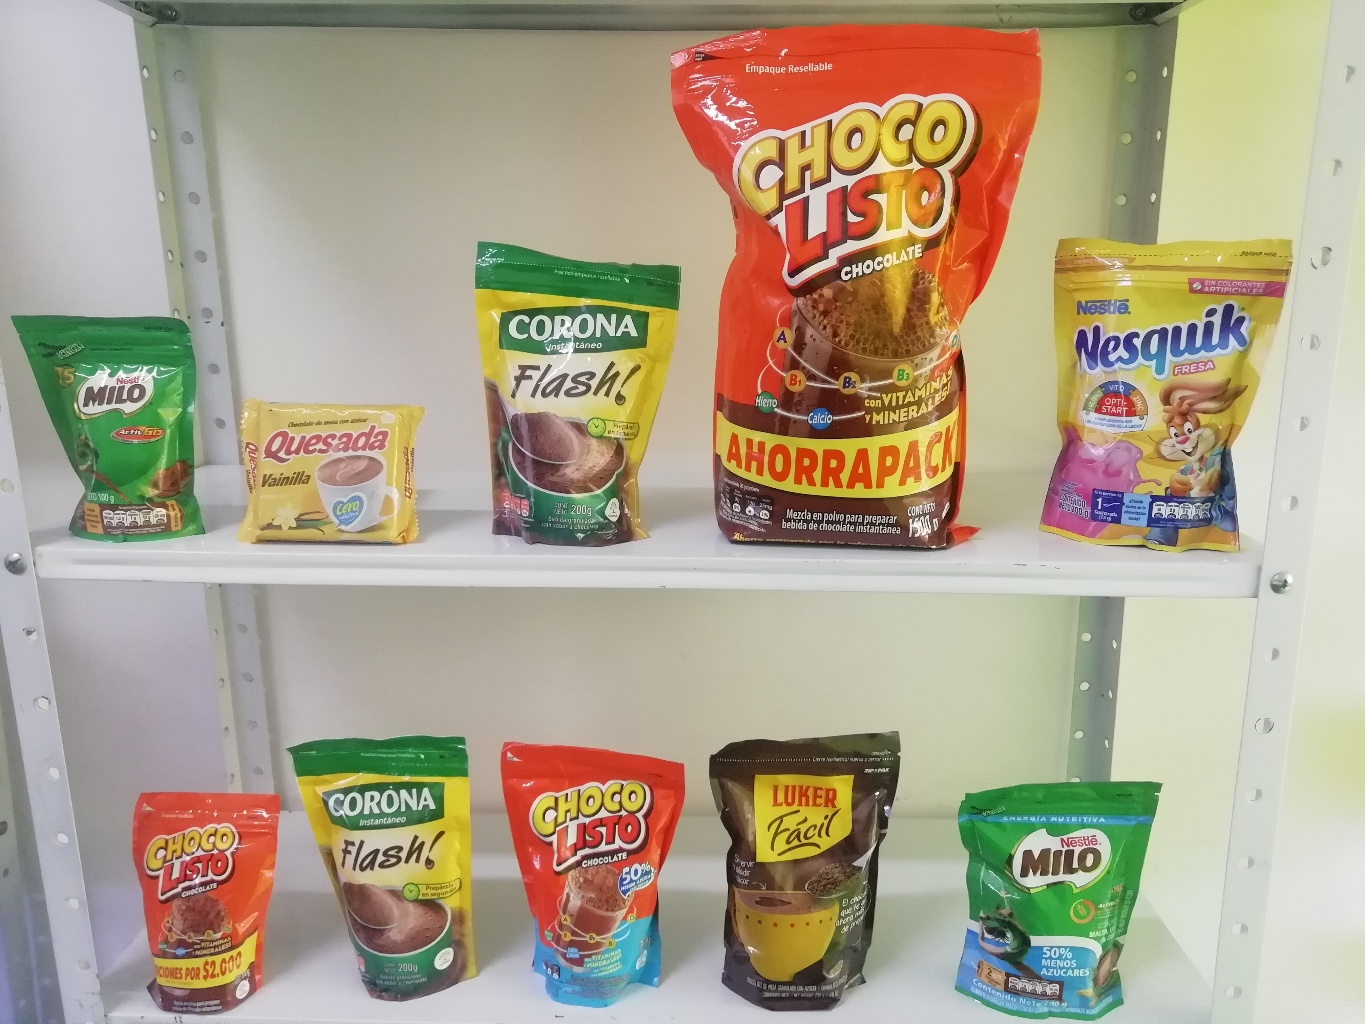COL0170103DYP1,500: (662, 23, 1040, 549)
COL0170104DYP20000: (498, 738, 688, 1009)
COL0170203DYP10000: (8, 313, 205, 538)
COL0170205DYP20000: (957, 776, 1163, 1022)
COL0170305DYP20000: (1043, 231, 1292, 551)
